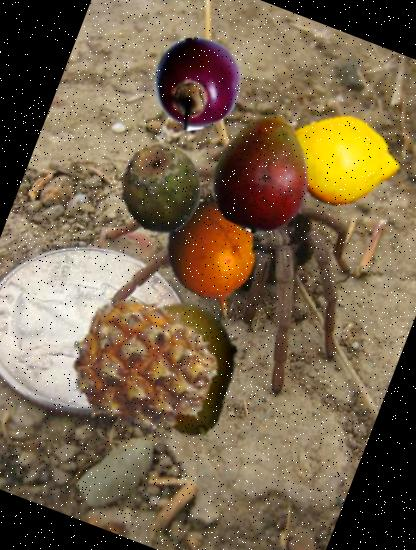Cactus: (99, 129, 219, 249)
Granadilla: (131, 181, 291, 341)
Mango: (188, 97, 340, 250)
Pear: (92, 280, 274, 463)
Pineapple: (47, 271, 240, 464)
Quince: (272, 90, 414, 233)
Tamarillo: (137, 24, 257, 144)
